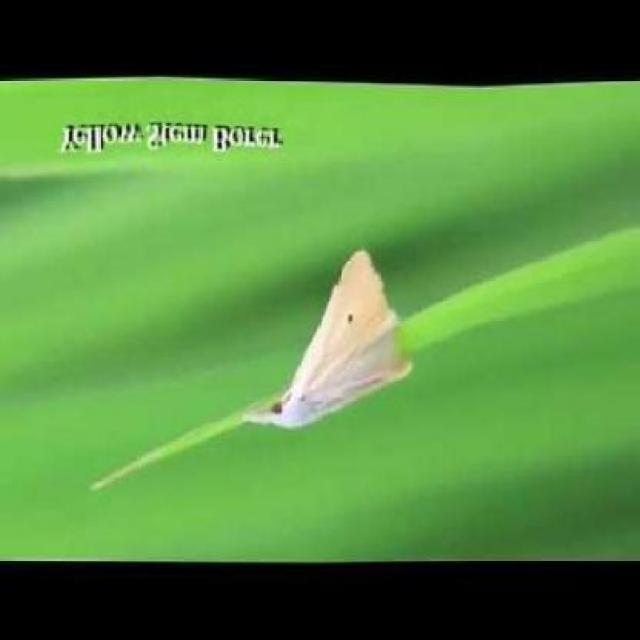stem-borer: (247, 248, 416, 434)
